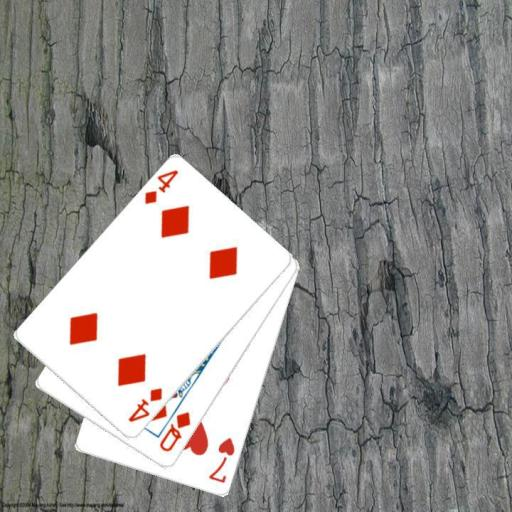4D: (125, 385, 165, 425), (141, 167, 180, 207)
7H: (205, 434, 237, 485)
QD: (156, 409, 193, 454)
